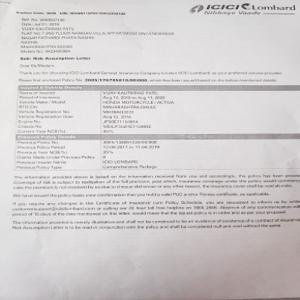image: (187, 1, 299, 19)
table: (17, 84, 294, 134), (17, 134, 297, 169)
text: (10, 171, 300, 229), (13, 9, 175, 53), (19, 72, 283, 84), (16, 54, 94, 62), (18, 62, 64, 71)
